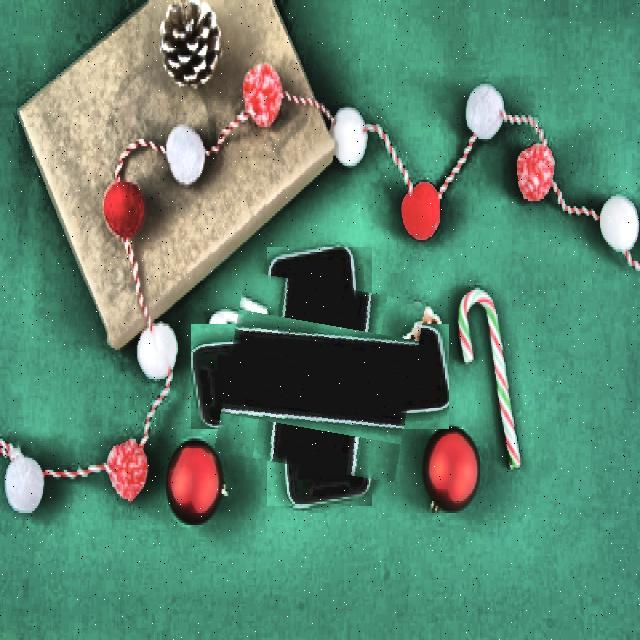Phone: (221, 278, 418, 475)
